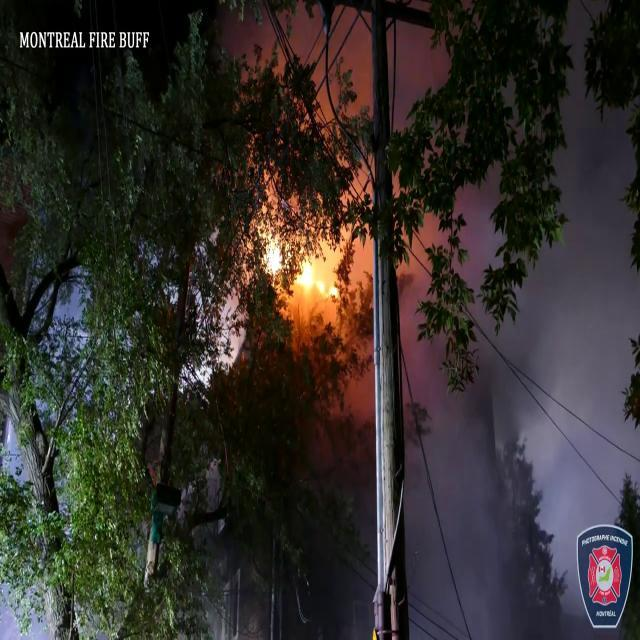Fire: (254, 211, 340, 313), (294, 246, 339, 306)
Smoke: (452, 292, 560, 622)
